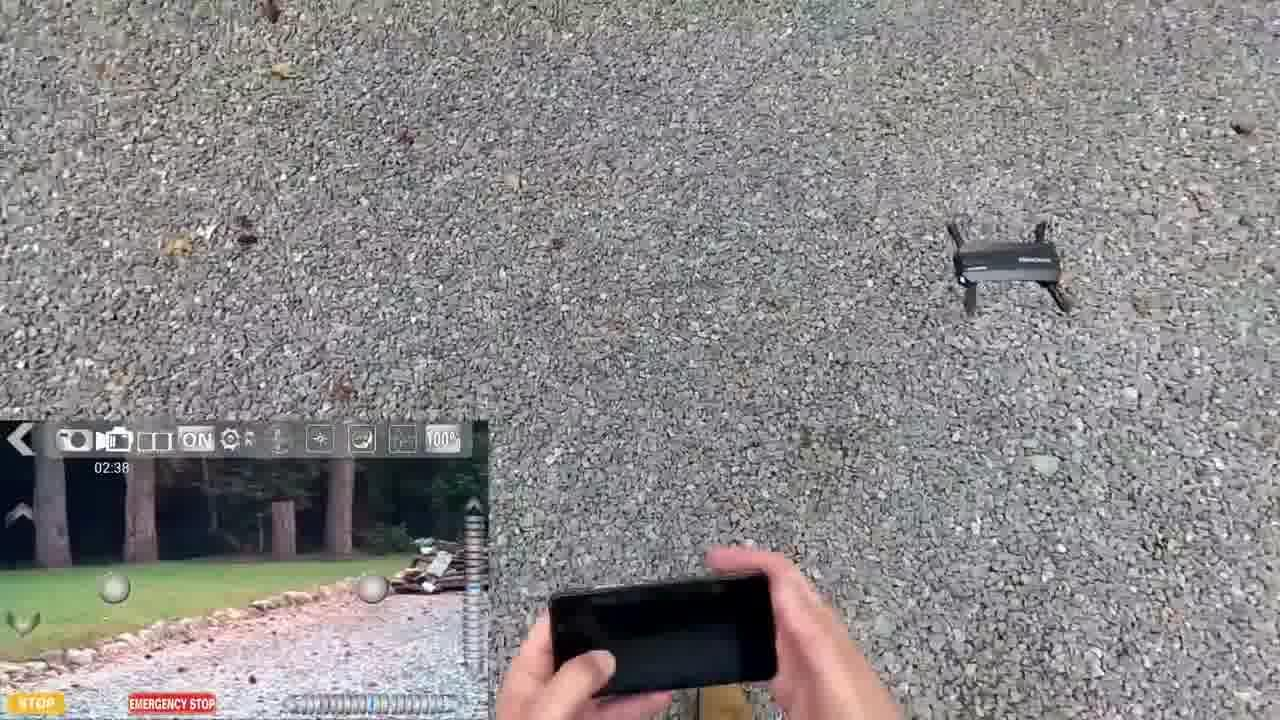drone: (918, 207, 1085, 321)
